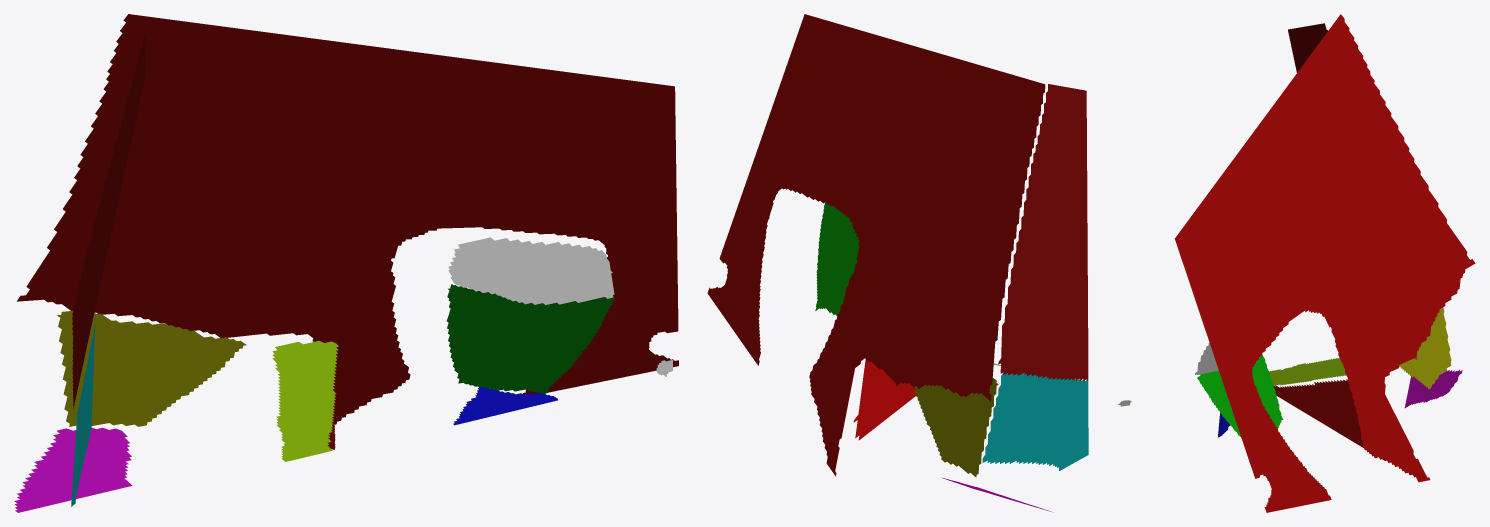
Rendered from 326_seg_predplane.glb.
3 views of the same model, side by side, from view 1: azimuth 30°, elevation 25°; view 2: azimuth 150°, elevation 25°; view 3: azimuth 270°, elevation 25° (orthographic). The views are drawn at different scales.
Bounding box in the file's own units: 1.75 × 1.58 × 1.32.
